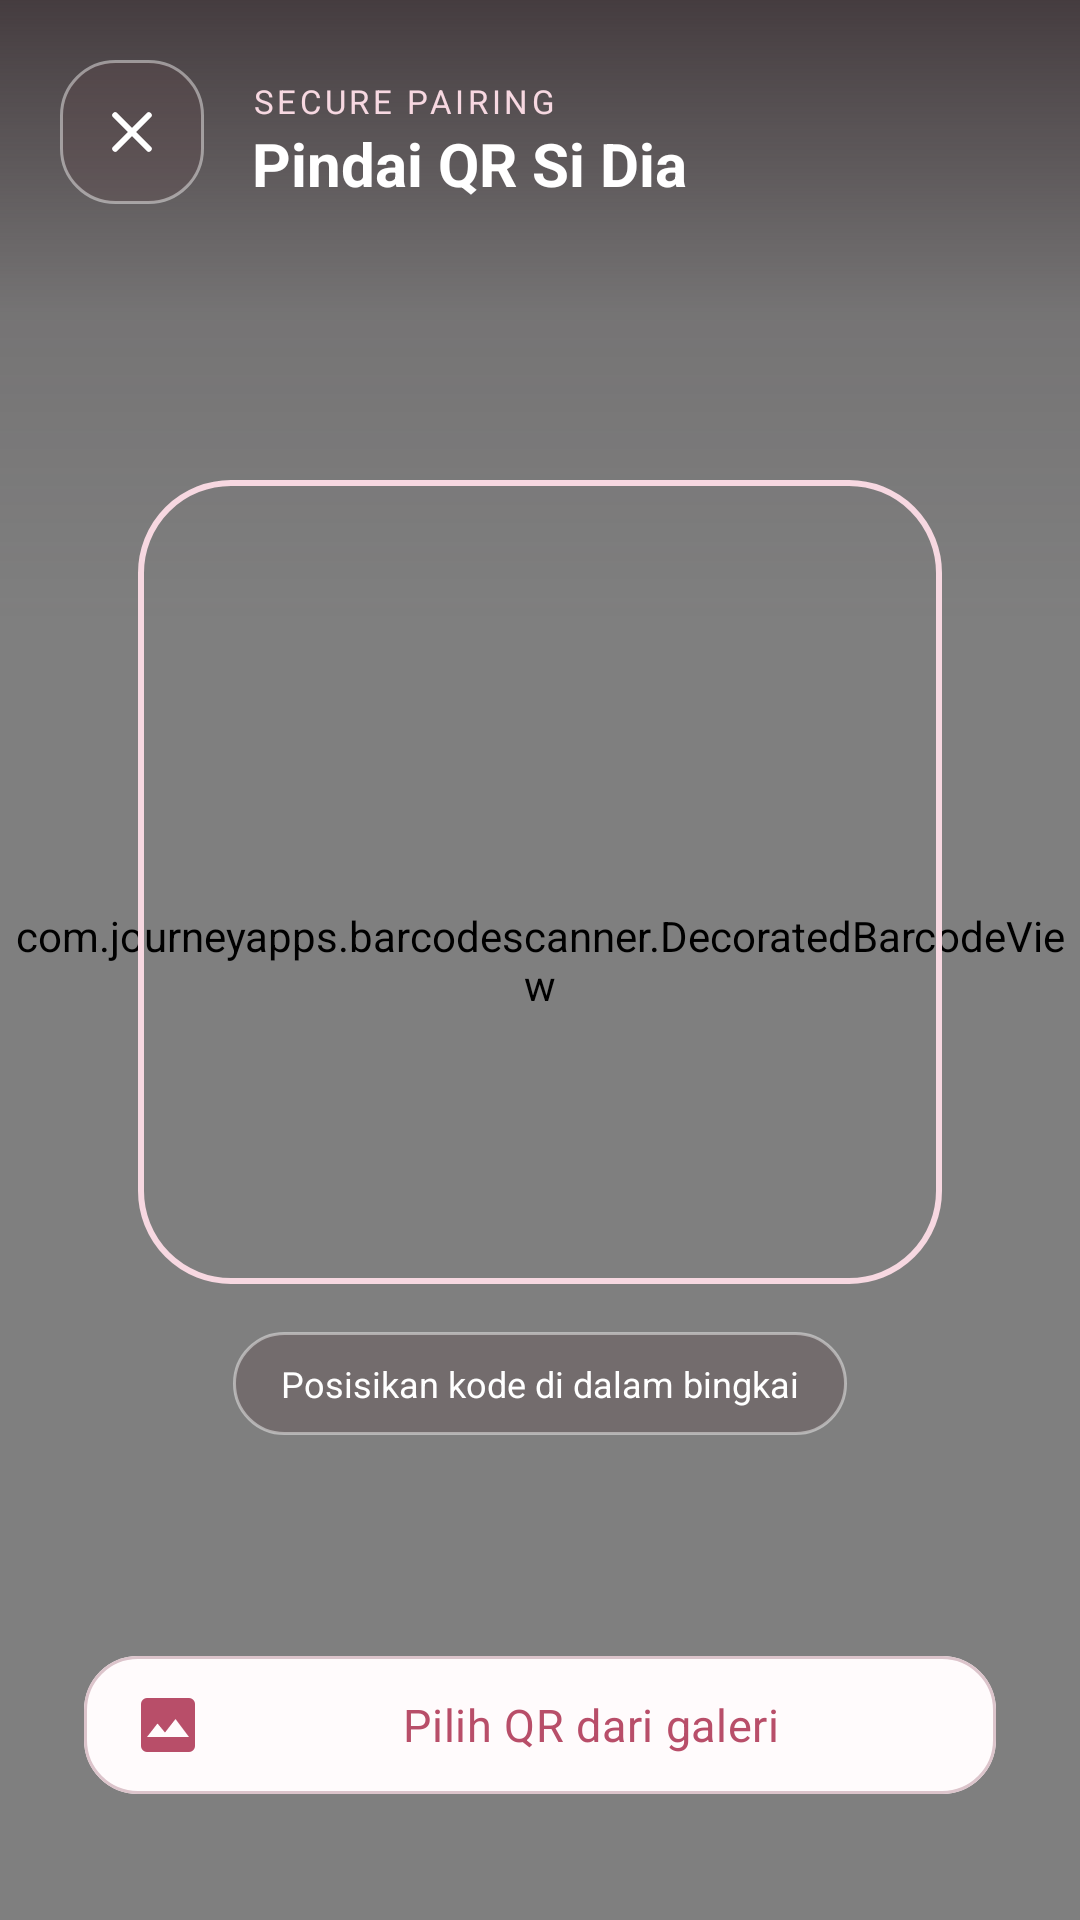

Icons on this 1080px×1920px Android screen, each with its box as {"x1": x1, "y1": y1, "x2": x2, "y2": y2}:
Kembali: {"x1": 60, "y1": 60, "x2": 204, "y2": 204}
